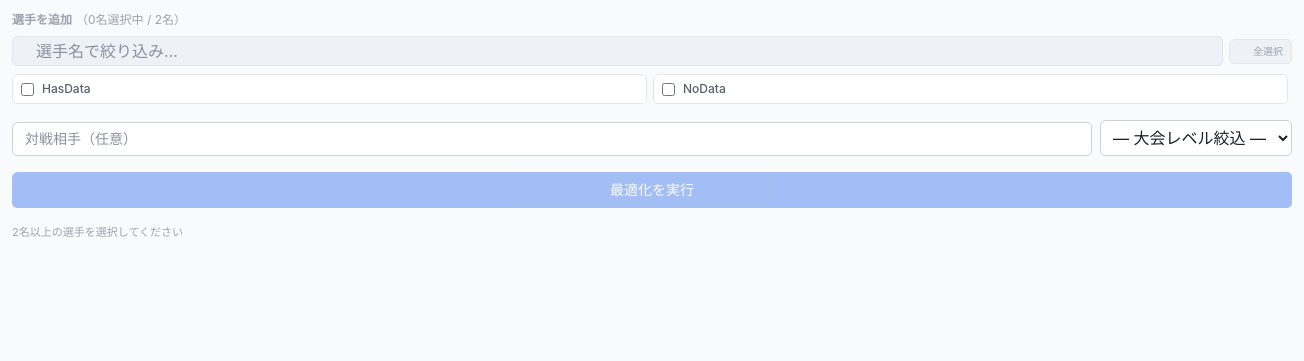
Test: LineupOptimizerPanel: 勝率 null の選手に % を描かない › analyst view: only the player with data gets a percentage
The width and height of the screenshot is (1304, 361).
Click the checkbox labelled "HasData" at (28, 89), box 21,82 -> 34,96
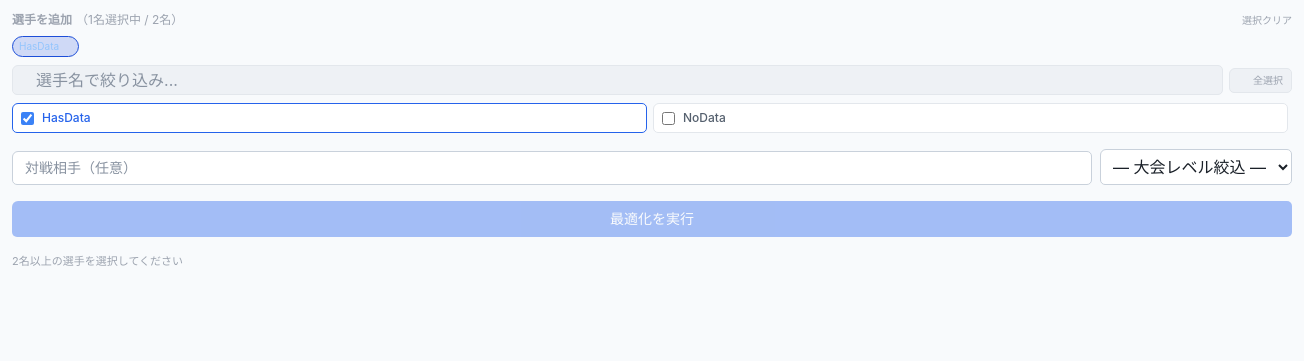
Click the checkbox labelled "NoData" at (668, 118), box 662,112 -> 675,124
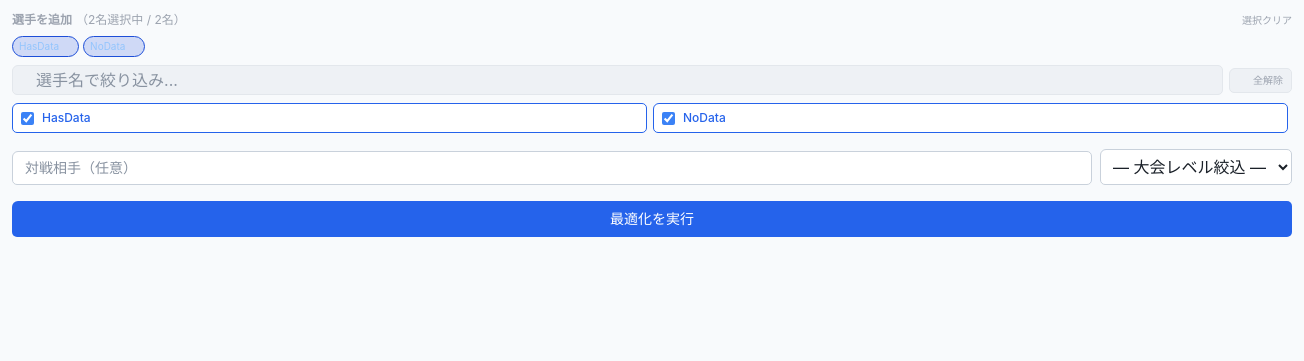
Click the button "最適化を実行" at (652, 219), box 12,201 -> 1292,237
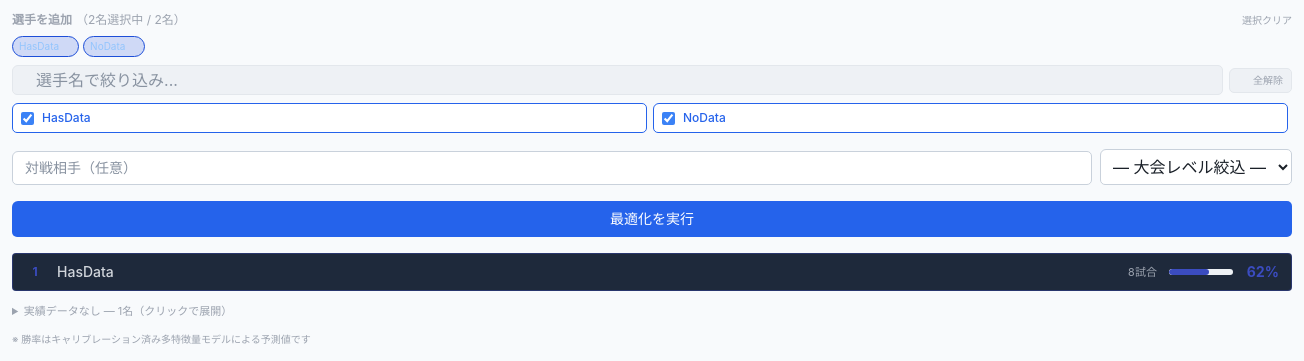
Result: the text "62%" is shown at 1247,263 -> 1279,280
